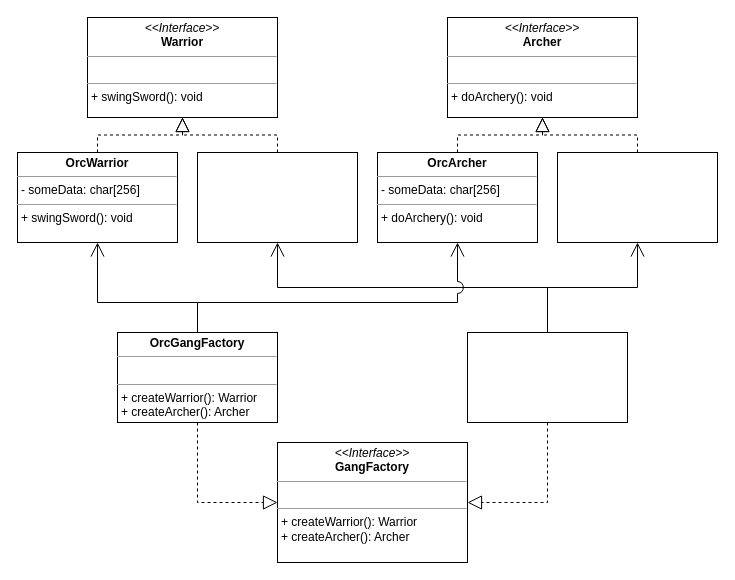
The diagram is 735 pixels wide and 580 high, and some of its shapes have lost their labels. The shapes that lost their labels are listed below. From the top down, each one's centre as x and y in pixels, then its label:
At [277,197]: "SkeletonWarrior - someData: char[256] + swingSword(): void".
At [637,197]: "SkeletonArcher - someData: char[256] + doArchery(): void".
At [547,377]: "SkeletonGangFactory + createWarrior(): Warrior + createArcher(): Archer".
